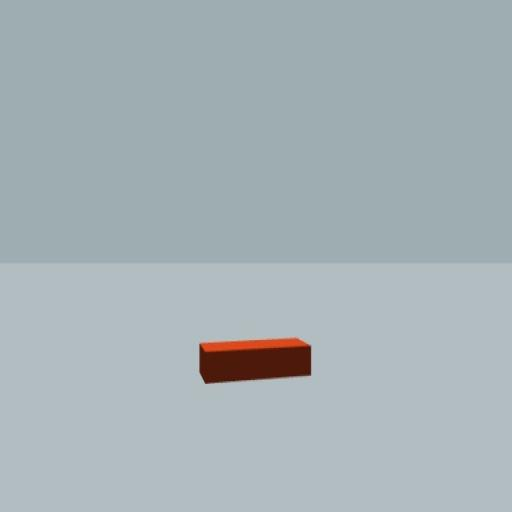debris_container: (198, 338, 313, 388)
